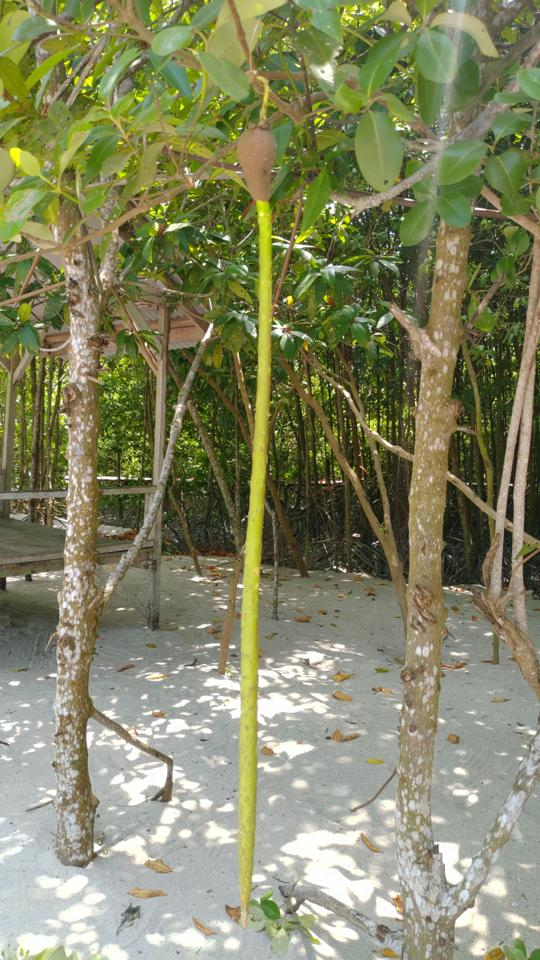mentah: (228, 110, 289, 940)
